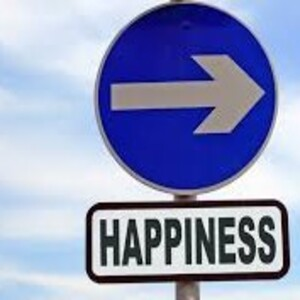trun_right: (94, 3, 276, 197)
